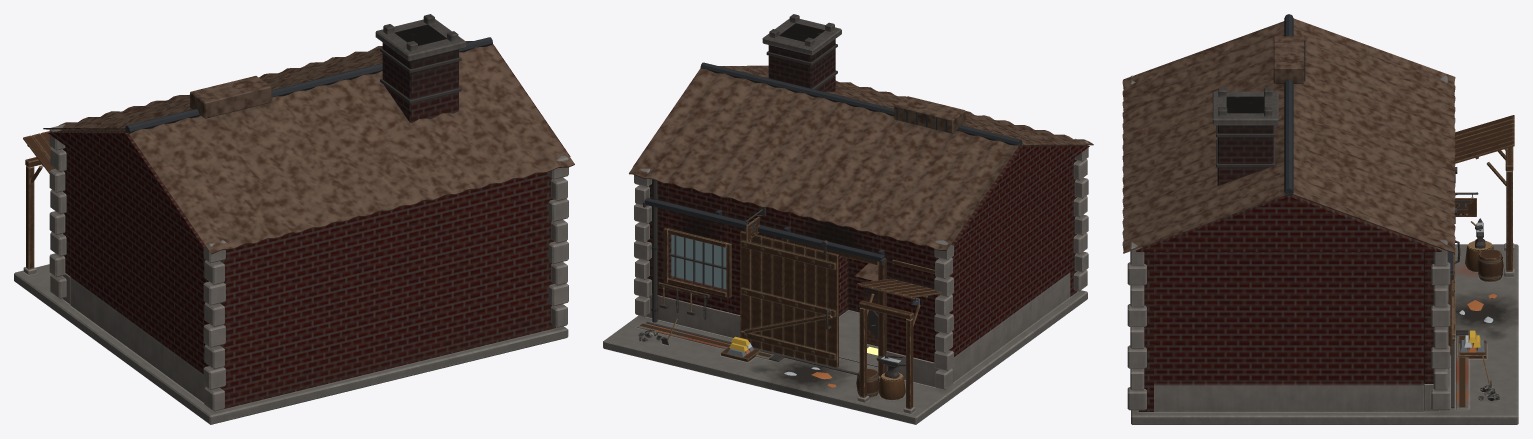
File: forja_principal.fbx
3 views of the same model, side by side, from view 1: azimuth 30°, elevation 25°; view 2: azimuth 150°, elevation 25°; view 3: azimuth 270°, elevation 25° (orthographic). The views are drawn at different scales.
Visible parts, largest first — view 1: forja_principal; view 2: forja_principal, forja_principal_puerta, forja_principal_cristal; view 3: forja_principal, forja_principal_puerta.
Part boxes in pixels (bbox=[...]): forja_principal: bbox=[14, 14, 574, 424]; forja_principal: bbox=[603, 14, 1093, 424]; forja_principal_puerta: bbox=[740, 222, 838, 367]; forja_principal_cristal: bbox=[671, 234, 726, 289]; forja_principal: bbox=[1122, 14, 1518, 424]; forja_principal_puerta: bbox=[1448, 167, 1460, 355].
Bounding box in the file's own units: 16.4 × 12.32 × 15.53.
Materials: 4 (1 with a texture image).
